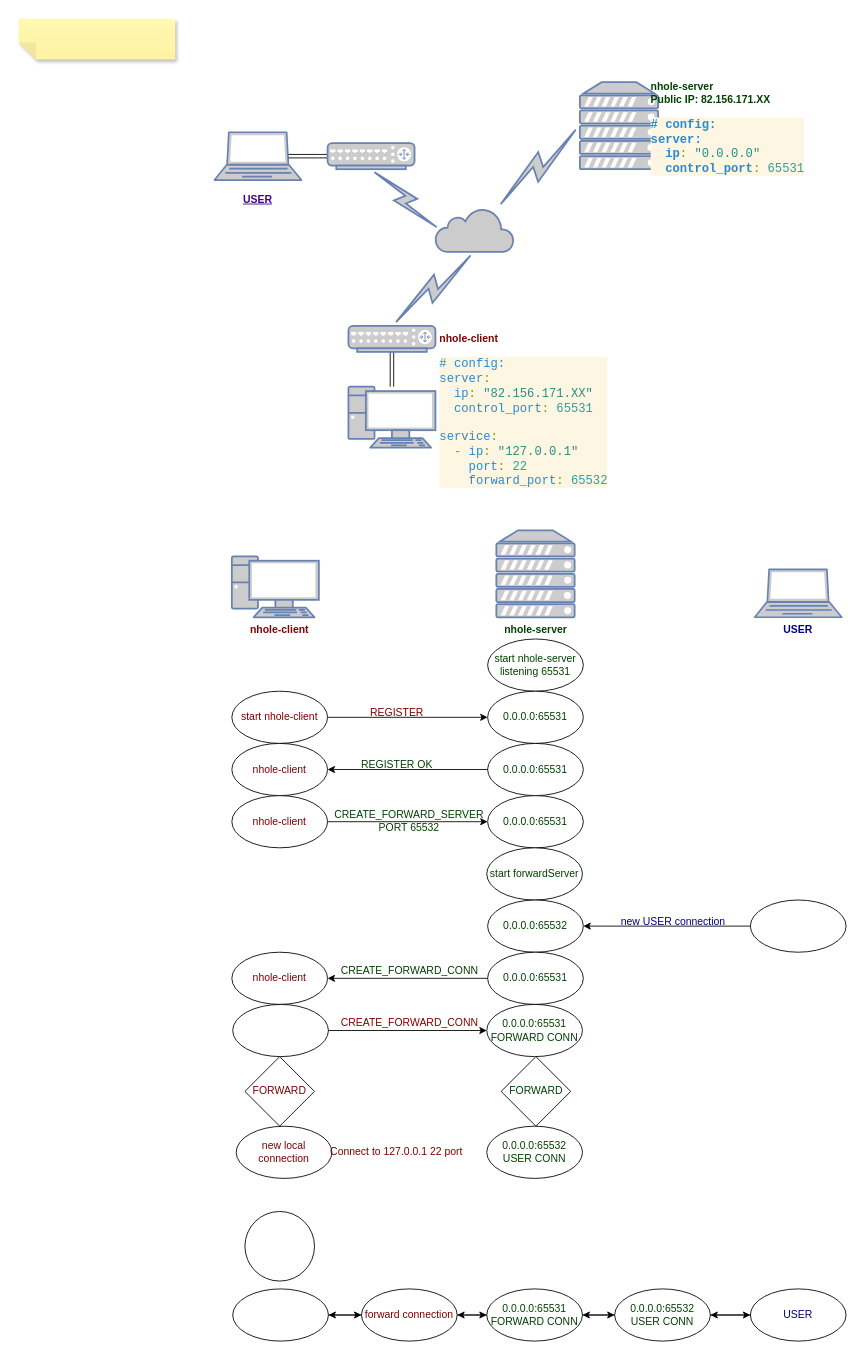
This 861x1356 diagram has some shape labels left out. Each missing label, with the centre of its shape:
"end:" belongs at (279,1246).
"local connection" belongs at (280,1314).
"new forward connection" belongs at (280,1030).
"new USER" belongs at (798,925).
"Tcp Forward Working Diagram" belongs at (97,40).
